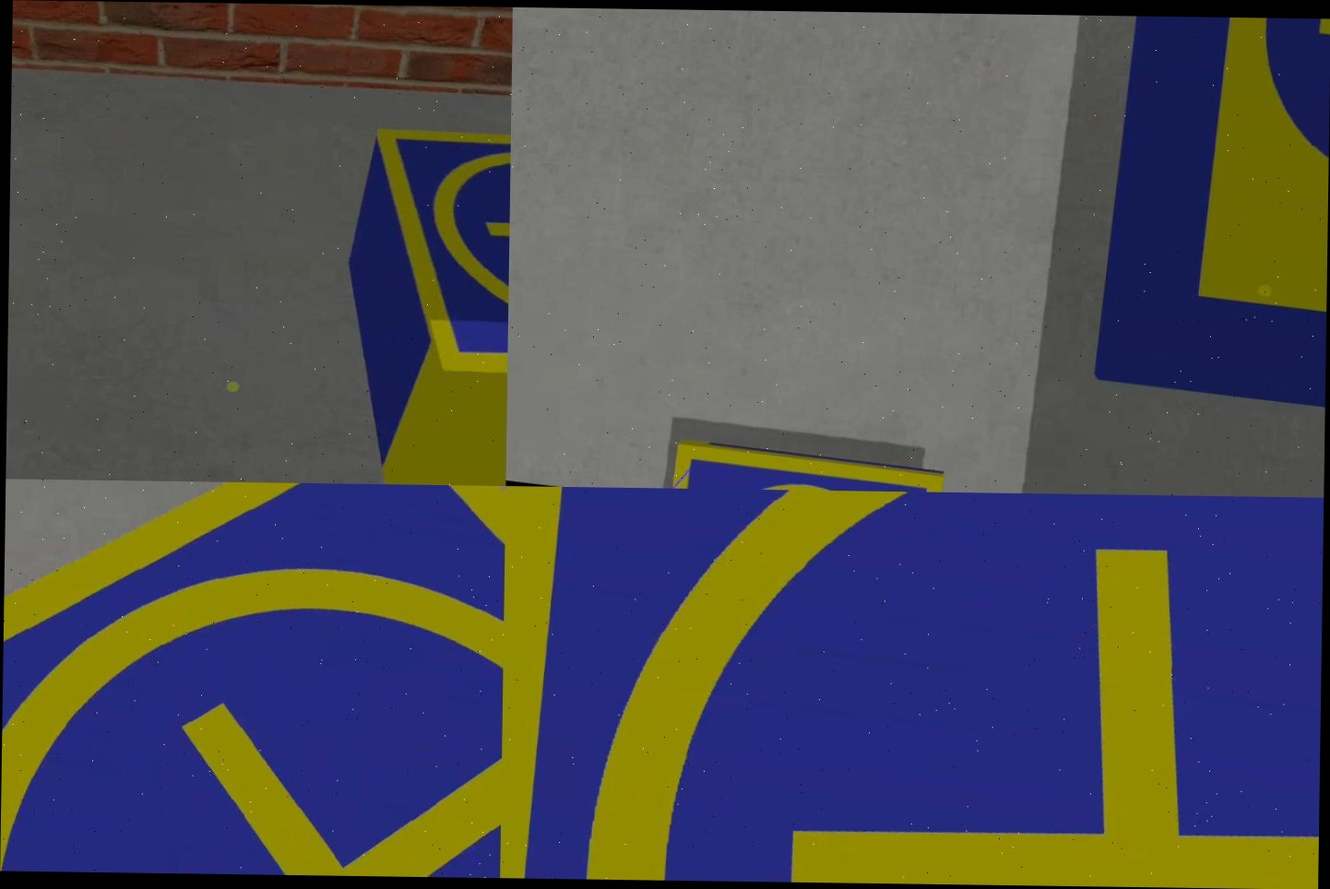large_base: (1093, 16, 1330, 426)
small_base: (500, 486, 1323, 889), (0, 479, 505, 877), (339, 112, 511, 416), (669, 444, 943, 492)
